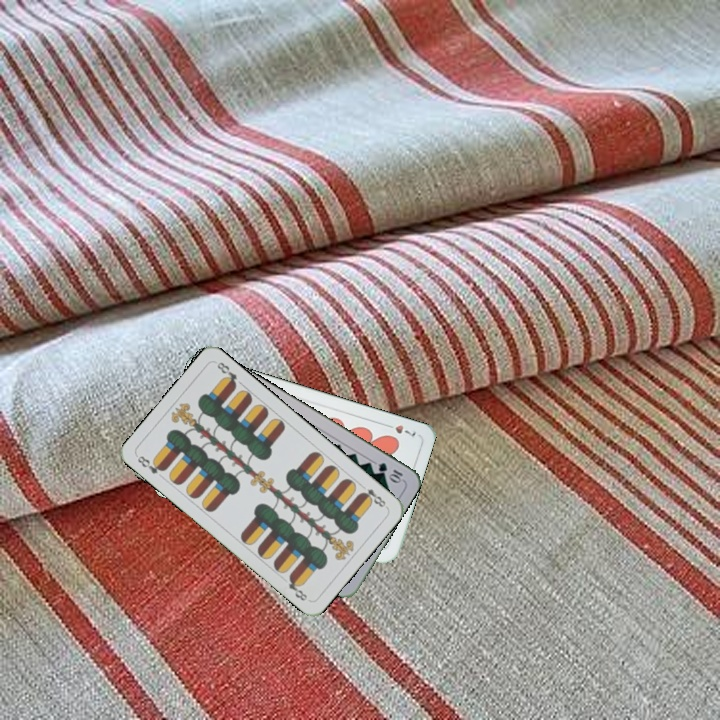E8: (356, 480, 390, 510), (133, 451, 168, 477)
G10: (374, 458, 405, 486)
H7: (380, 419, 418, 439)
